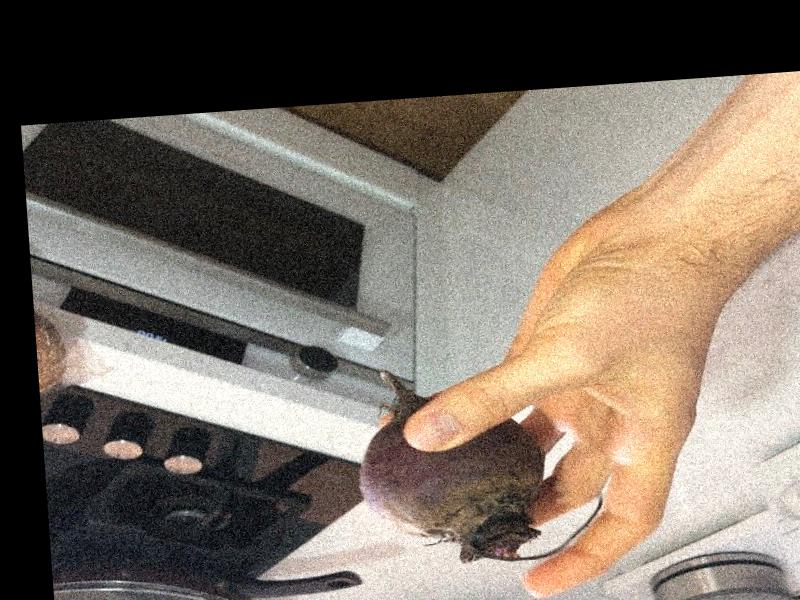Beet: (353, 356, 603, 570)
